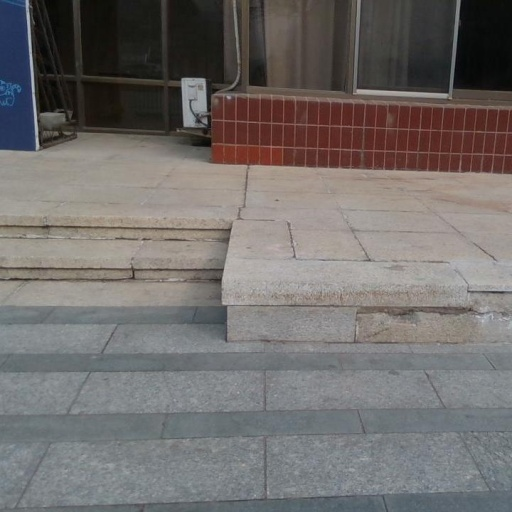Stairs: (0, 281, 512, 512), (0, 225, 228, 277)
